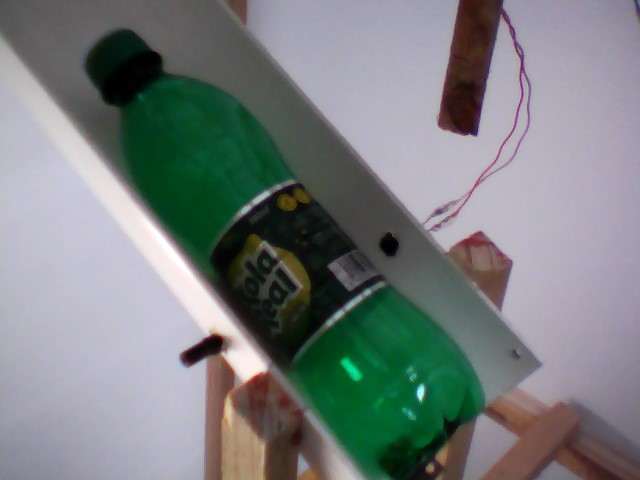plastico: (83, 18, 497, 480)
